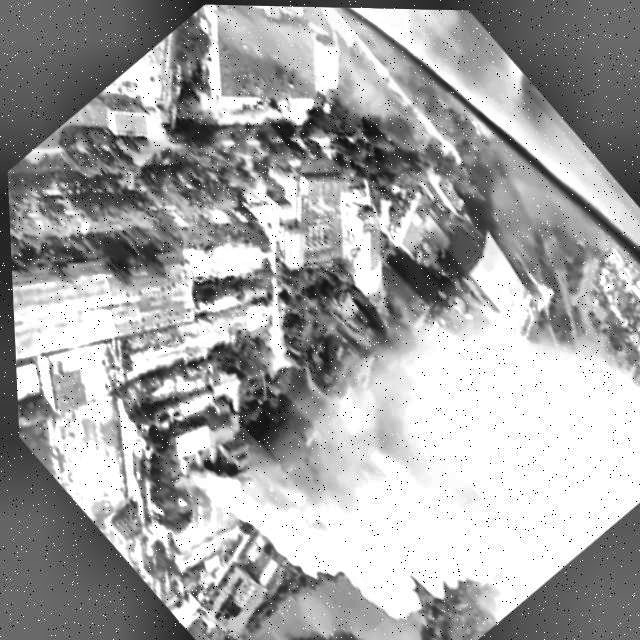Smoke: (174, 201, 640, 640)
